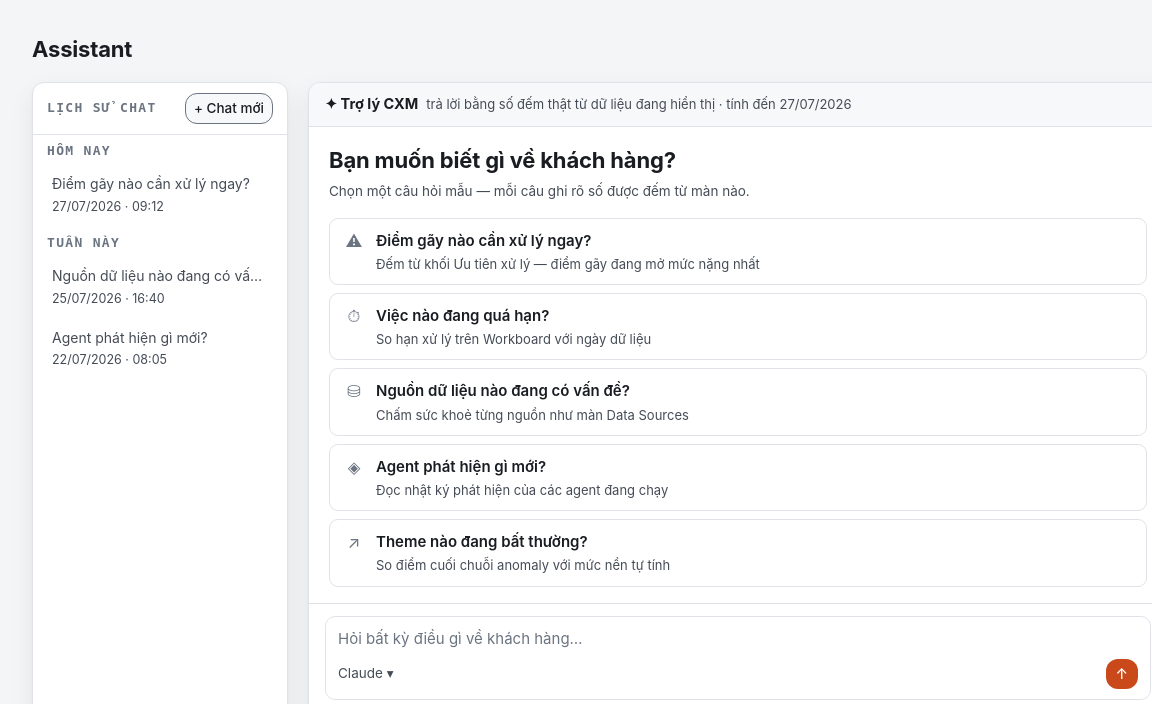
Test case: hỏi bằng câu hỏi mẫu › dưới câu trả lời là chip follow-up gồm các câu CHƯA hỏi (tối đa 3), bấm chip là hỏi tiếp
Click the button with test id "assistant-prompt-p-critical" at [484, 240], box top-left (329, 218), bottom-right (1147, 285)
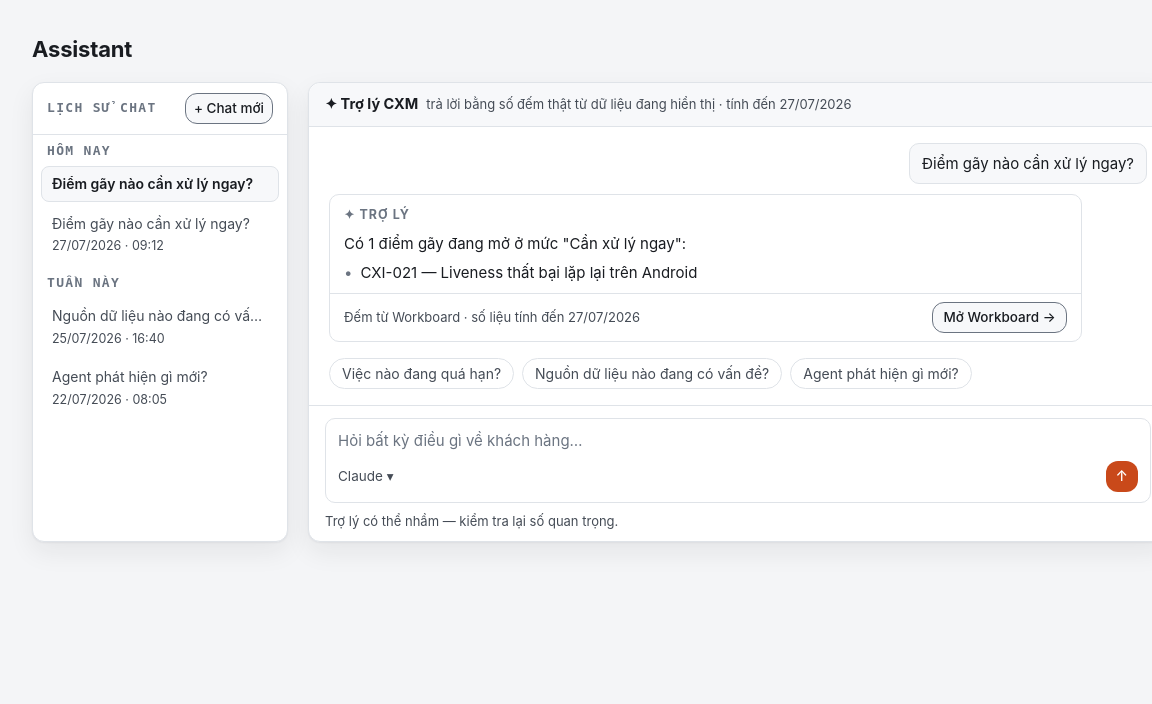
Click the button "Việc nào đang quá hạn?" at [422, 373], box top-left (329, 358), bottom-right (514, 389)
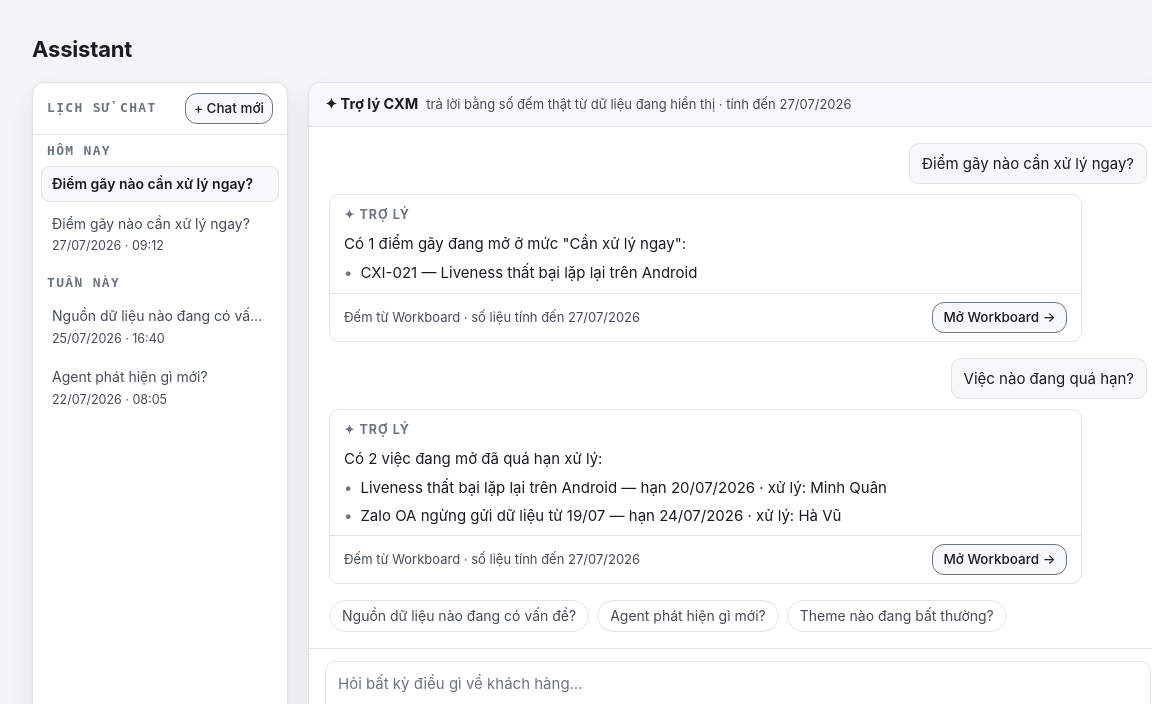
Check: the element with test id "assistant-turn-1" is shown, box top-left (329, 358), bottom-right (1147, 584)
